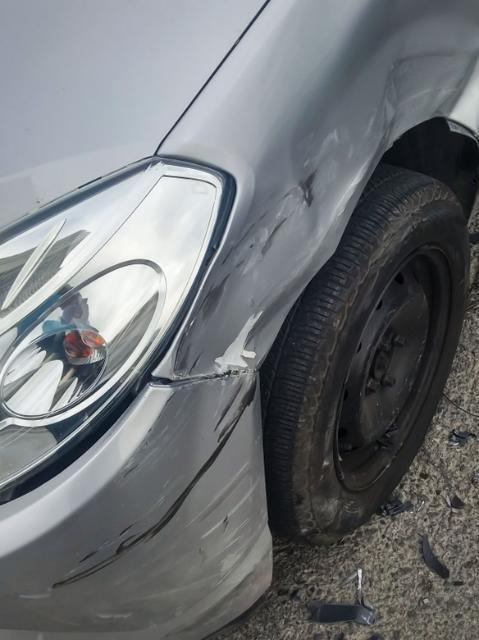Bumper: (0, 382, 273, 640)
Fender: (197, 102, 353, 365)
